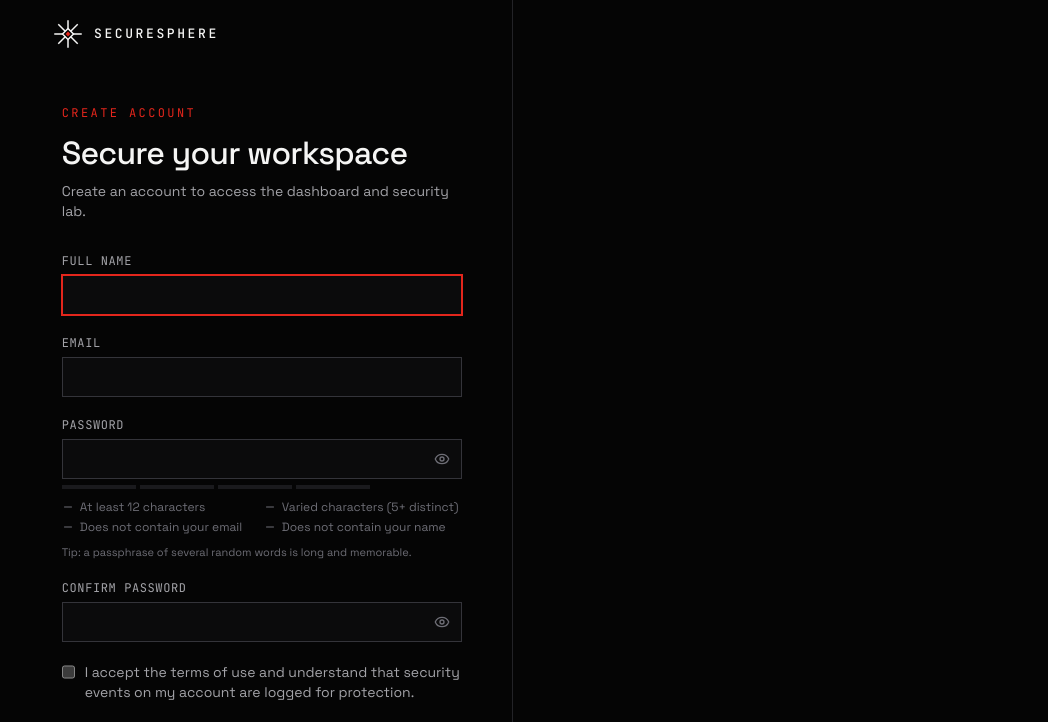
Scenario: RegisterPage › requires matching passwords and accepted terms
Type "Bob Builder" into the field labelled "Full name".
click(262, 295); type("Bob Builder")  # box [62,275,462,315]
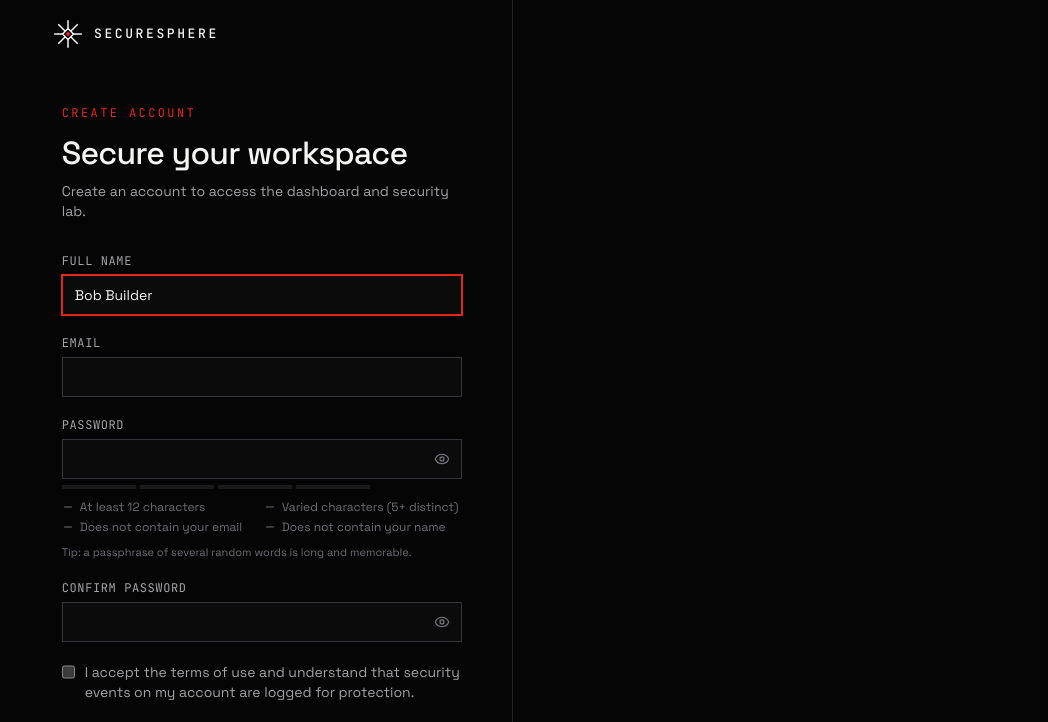
Type "bob@example.com" into the field labelled "Email".
click(262, 377); type("bob@example.com")  # box [62,357,462,397]
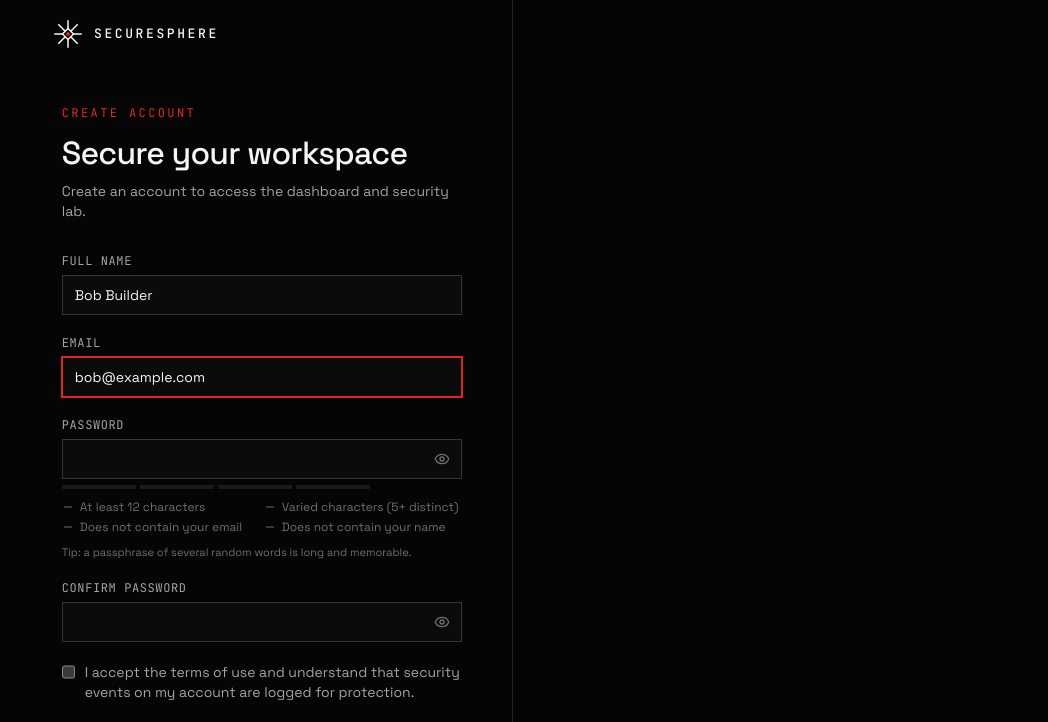
Type "a-long-pass-phrase-1" into the password field labelled "Password".
click(262, 459); type("a-long-pass-phrase-1")  # box [62,439,462,479]
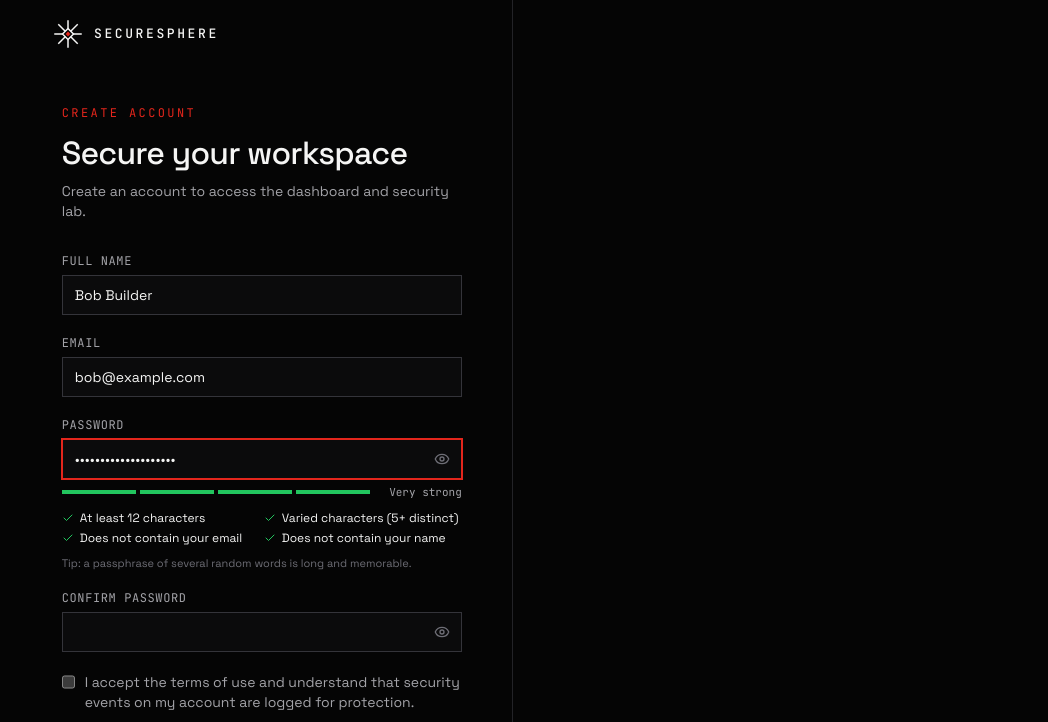
Type "something-else-entirely" into the password field labelled "Confirm password".
click(262, 632); type("something-else-entirely")  # box [62,612,462,652]
(page scrolled)
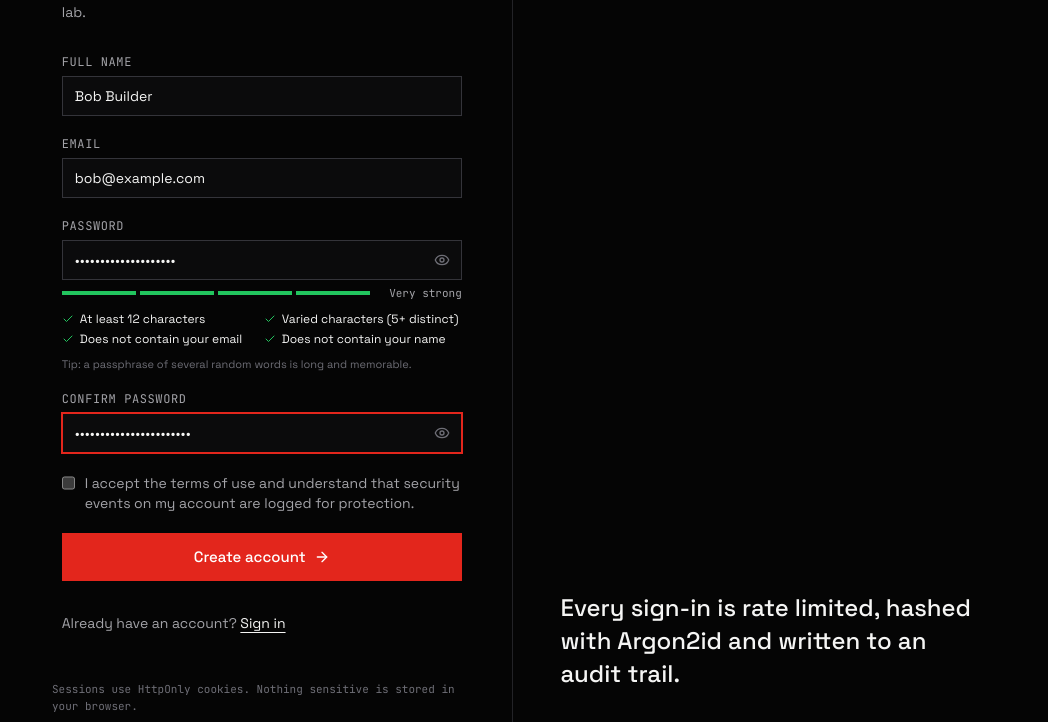
Click the button "Create account".
click(262, 557)  # box [62,533,462,581]
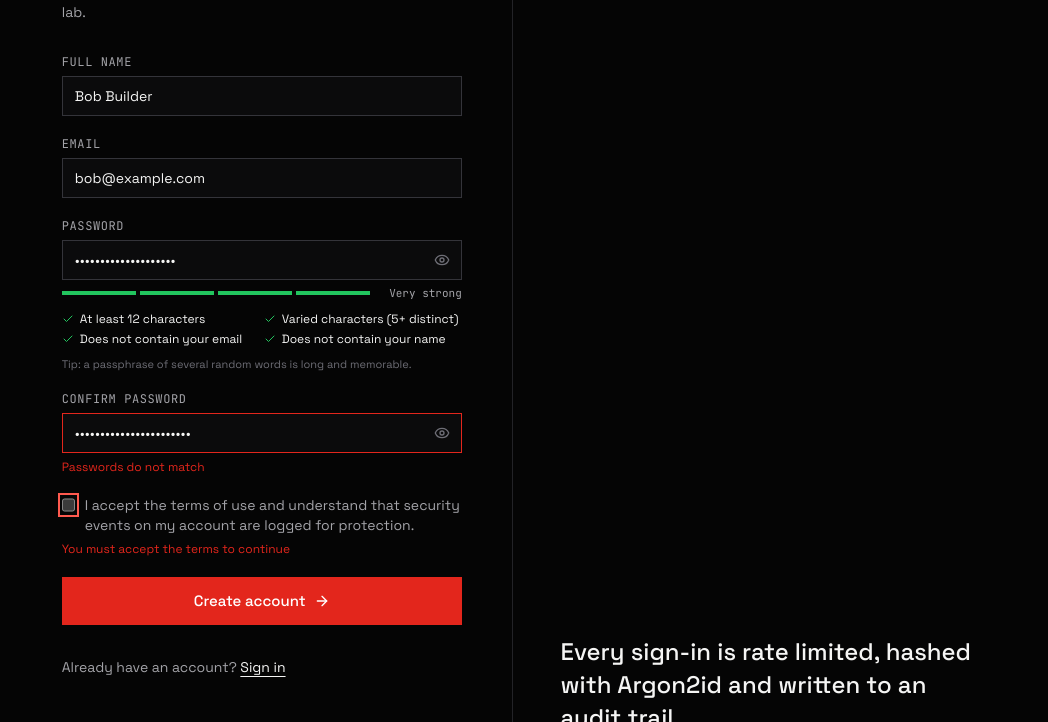
Expected: the text "Passwords do not match" is shown, [62,459,205,475]
Expected: the text "You must accept the terms to continue" is shown, [62,541,290,557]
